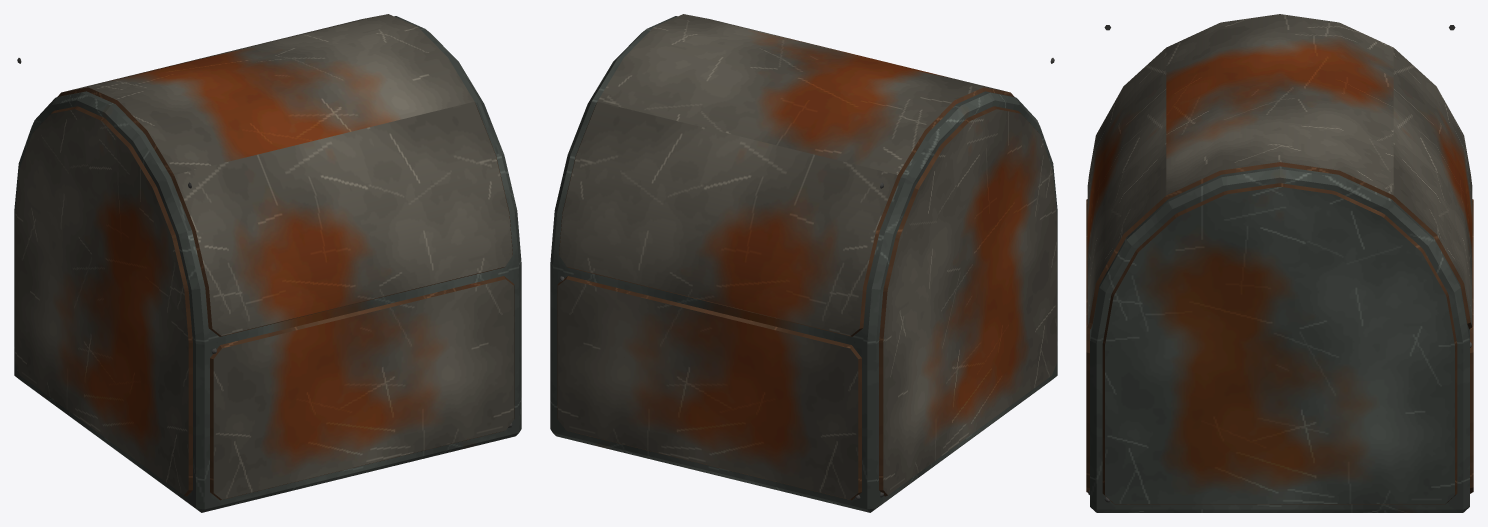
Rendered from R4B_RoundTop.glb.
3 renders of one model, left to right at view 1: azimuth 30°, elevation 25°; view 2: azimuth 150°, elevation 25°; view 3: azimuth 270°, elevation 25°, orthographic.
Visible parts, largest first — view 1: R4B_RoundTop; view 2: R4B_RoundTop; view 3: R4B_RoundTop.
Part boxes in pixels (left/top/right/bottom): R4B_RoundTop: left=14, top=14, right=521, bottom=512; R4B_RoundTop: left=550, top=14, right=1057, bottom=512; R4B_RoundTop: left=1086, top=14, right=1473, bottom=512.
Bounding box in the file's own units: 0.52 × 0.52 × 0.52.
Materials: 4 (4 with a texture image).
